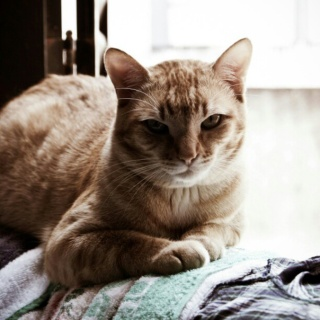Cat: (1, 35, 260, 299)
